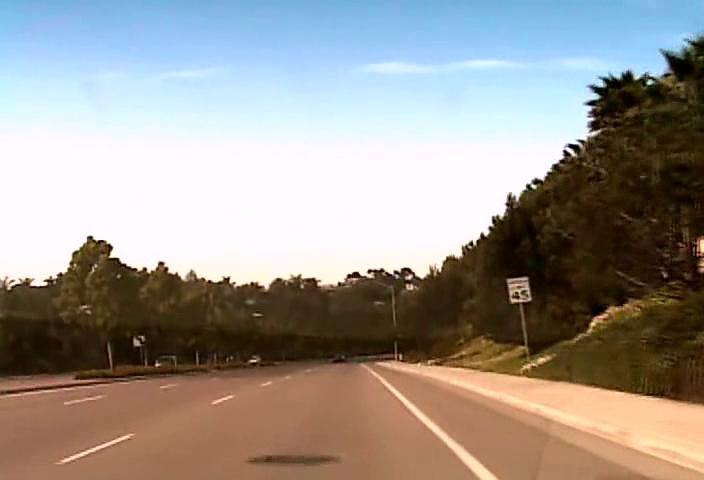speedLimit45: (506, 275, 532, 304)
